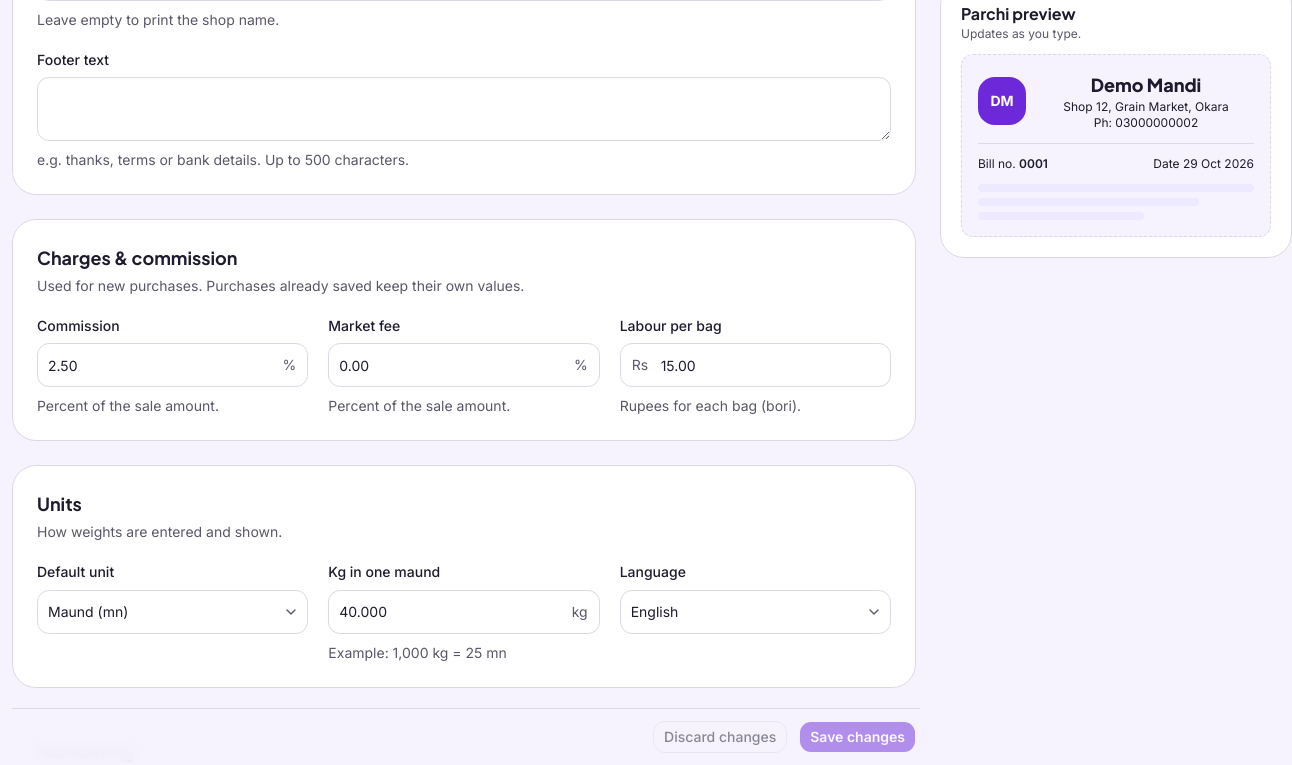
Test: SettingsForm › saving › keeps Save and Discard off until something changes
(page scrolled)
expect the button "Save changes" is disabled: met, box [799, 721, 916, 753]
expect the button "Discard changes" is disabled: met, box [653, 721, 787, 753]
Replace the text in the field labelled "Commission" with "3" at x=173, y=365, box [37, 343, 308, 387]
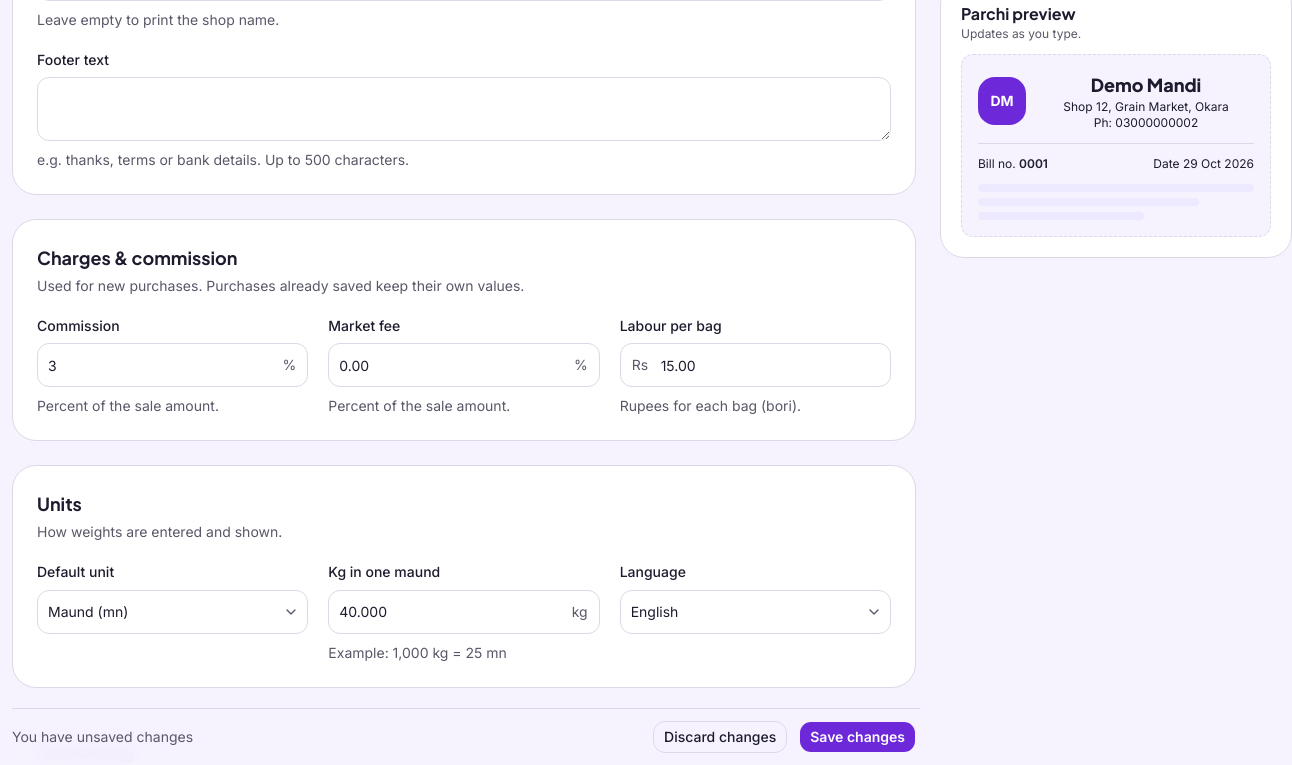
expect the button "Save changes" is enabled: met, box [799, 721, 916, 753]
expect the button "Discard changes" is enabled: met, box [653, 721, 787, 753]
expect the message reads "You have unsaved changes": met, box [12, 728, 193, 745]
Replace the text in the field labelled "Commission" with "2.50" at x=173, y=365, box [37, 343, 308, 387]
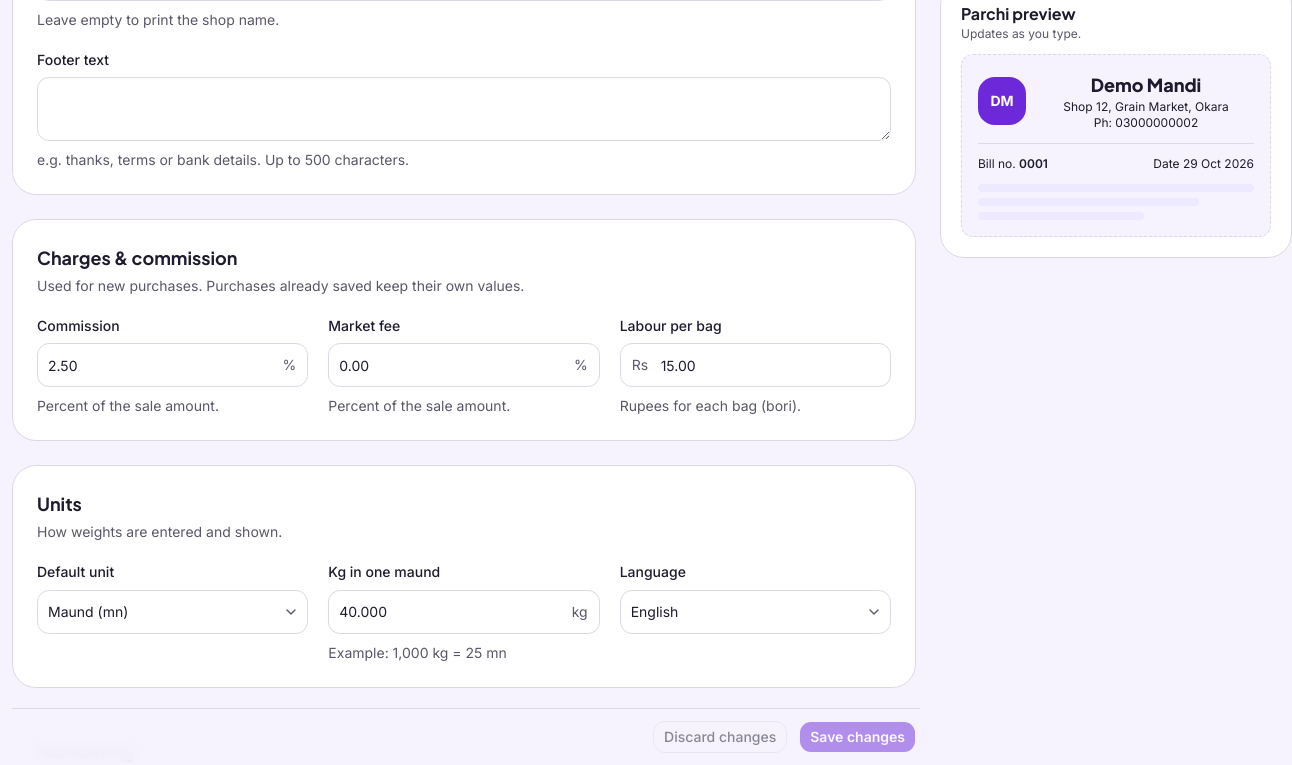
expect the button "Save changes" is disabled: met, box [799, 721, 916, 753]
